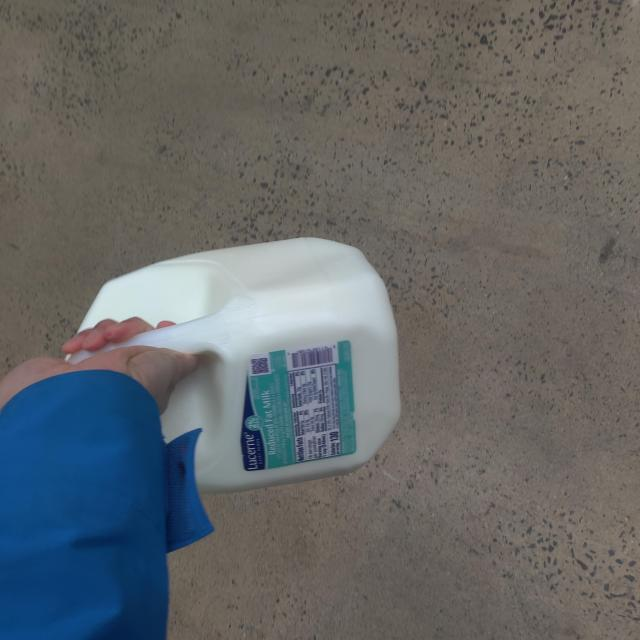Milk: (54, 237, 416, 495)
